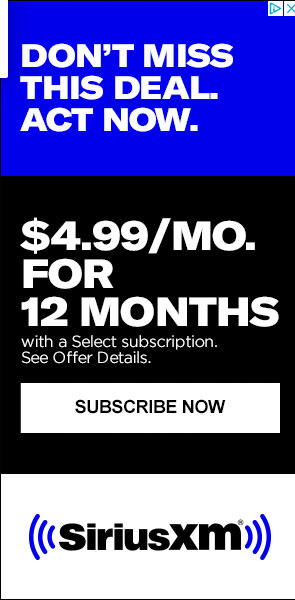fake_button: (13, 378, 295, 440)
